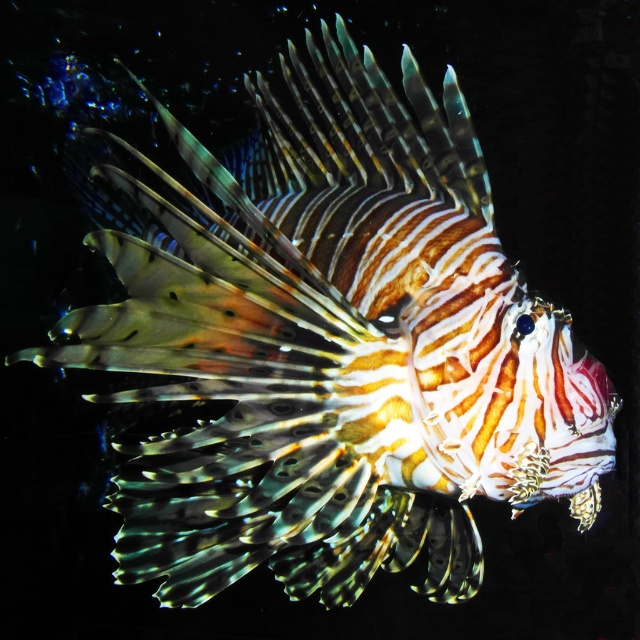Fish: (5, 13, 624, 610)
